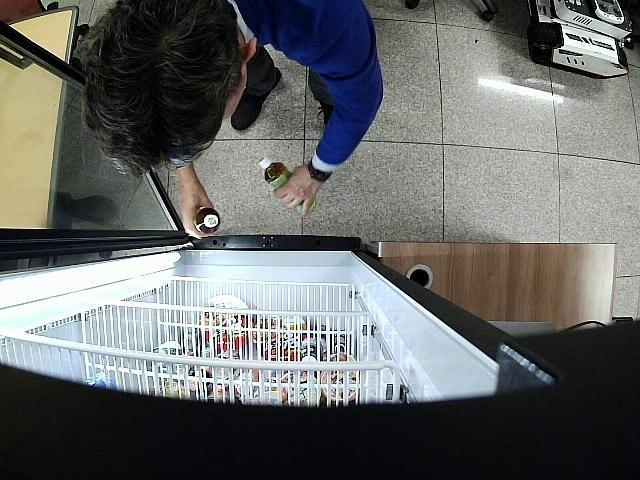19_17cha: (258, 156, 316, 216), (194, 208, 221, 234)
